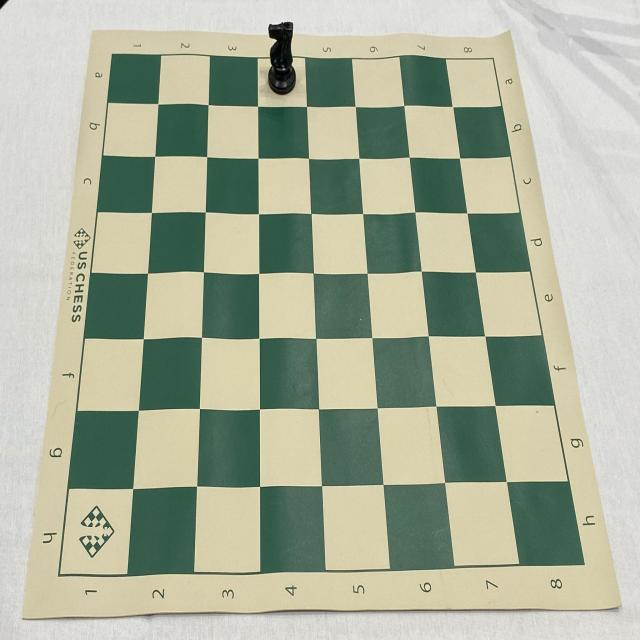black-knight: (264, 19, 298, 98)
